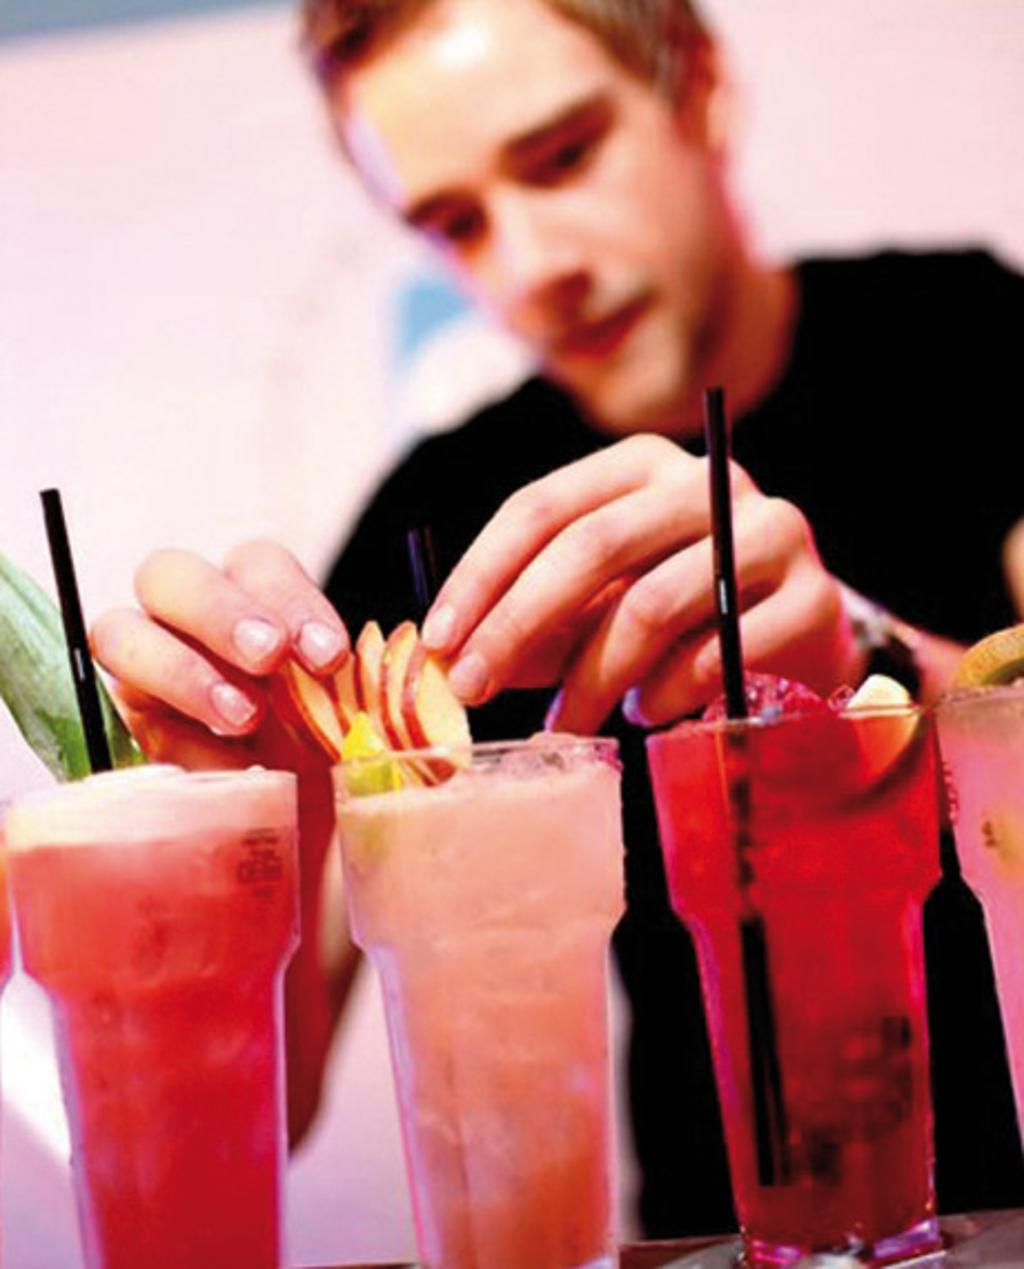face: (340, 10, 709, 429)
